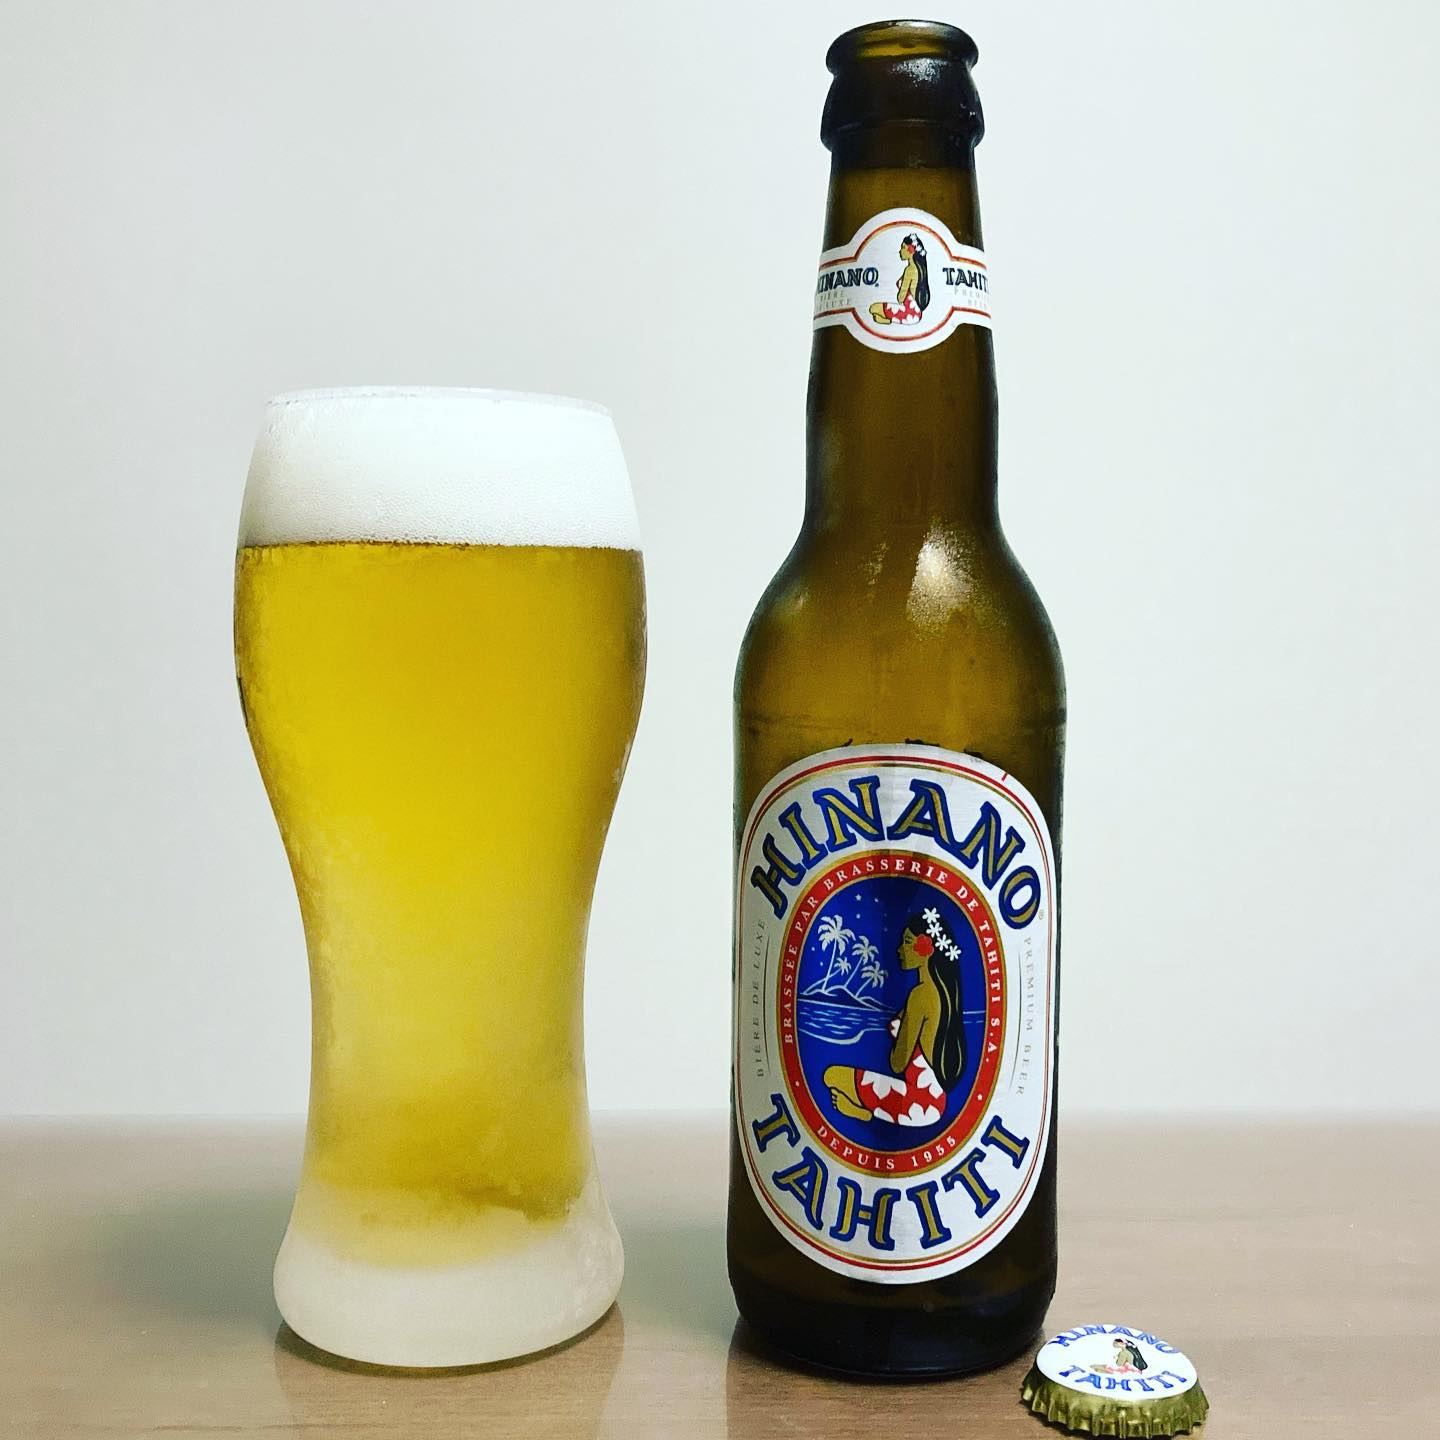alcohol: (720, 12, 1076, 1394), (225, 375, 654, 1383)
